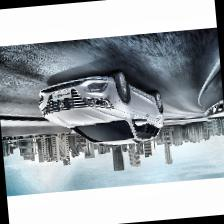EV: (38, 71, 169, 155)
